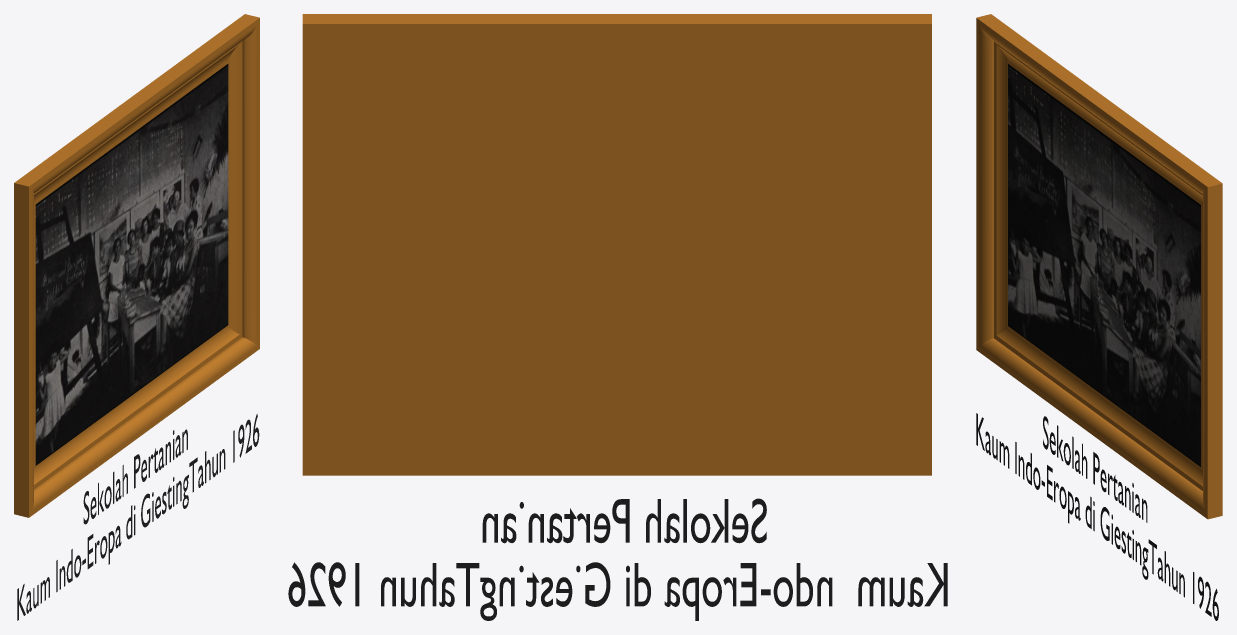
Rendered from sekolah.glb.
The picture shows the model from 3 angles, left to right: view 1: azimuth 30°, elevation 25°; view 2: azimuth 150°, elevation 25°; view 3: azimuth 270°, elevation 25°; orthographic projection. The views are drawn at different scales.
Parts seen in each view (by area): view 1: 2, 2t; view 2: 2, 2t; view 3: 2, 2t.
Boxes of the visible parts, x1,y1,x2,y2 form: 2: (14,14,259,517); 2t: (17,414,259,620); 2: (302,14,931,475); 2t: (288,498,947,620); 2: (976,14,1222,519); 2t: (976,413,1218,620).
Bounding box in the file's own units: 218 × 254 × 128.
Materials: 4 (1 with a texture image).
